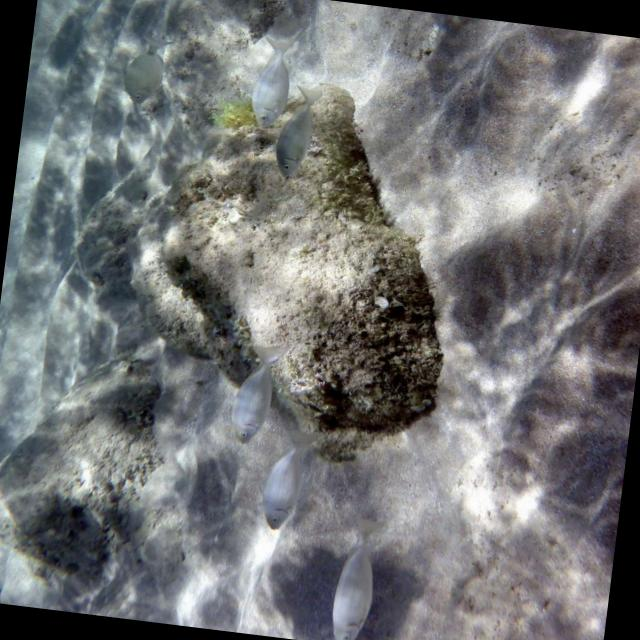Sokar Baligi: (215, 324, 293, 462), (310, 504, 388, 640), (262, 70, 334, 192)
